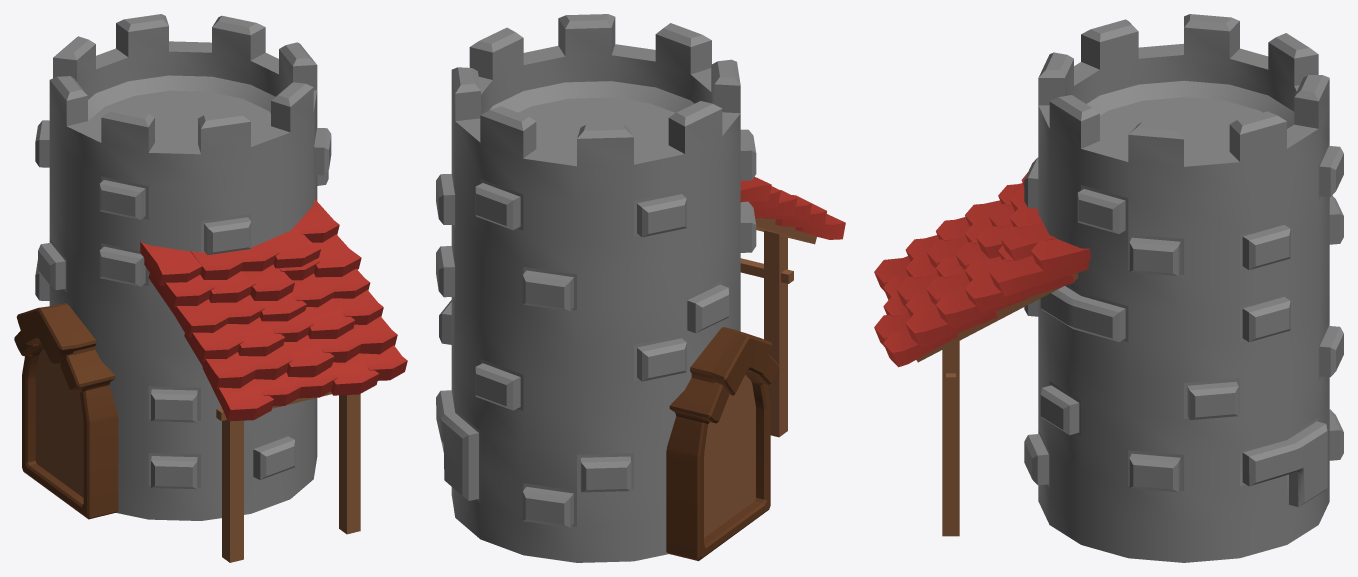
The model's file is upgrade1.obj.
3 renders of one model, left to right at view 1: azimuth 30°, elevation 25°; view 2: azimuth 150°, elevation 25°; view 3: azimuth 270°, elevation 25°, orthographic. The views are drawn at different scales.
Visible parts, largest first — view 1: Circle.003; view 2: Circle.003; view 3: Circle.003.
Part boxes in pixels (x1=…): Circle.003: x1=14, y1=14, x2=407, y2=562; Circle.003: x1=436, y1=14, x2=845, y2=562; Circle.003: x1=874, y1=14, x2=1343, y2=562.
Bounding box in the file's own units: 2.33 × 3.25 × 3.23.
